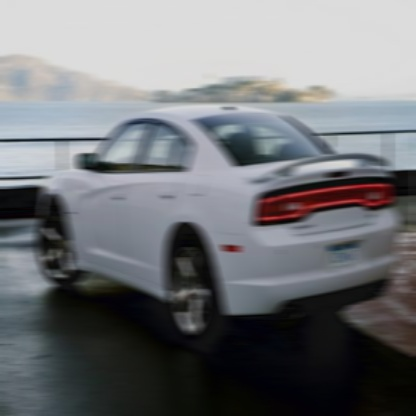Vehicle: (35, 104, 401, 354)
